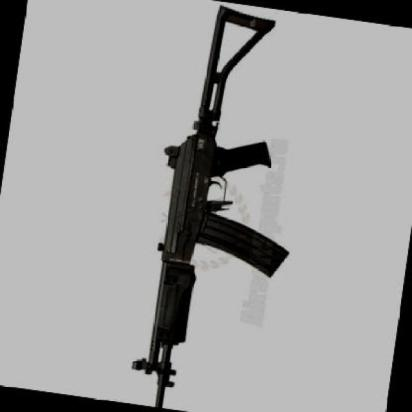Gun: (82, 0, 325, 412)
